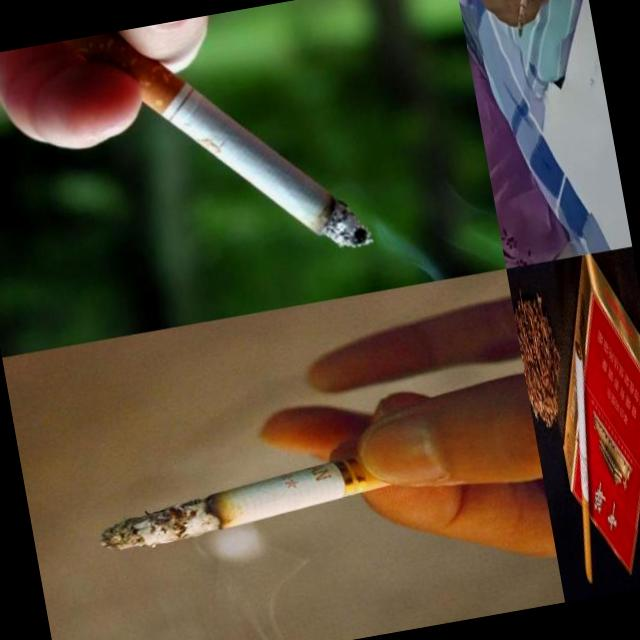smoke: (68, 289, 560, 635), (61, 0, 374, 292), (546, 336, 622, 584), (504, 0, 542, 40)
